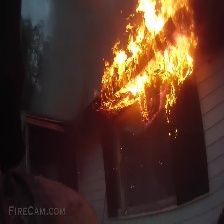fire: (104, 1, 199, 128)
